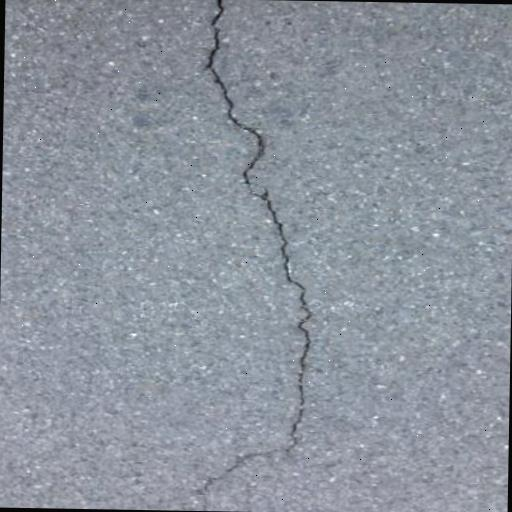spalling: (179, 5, 321, 500)
